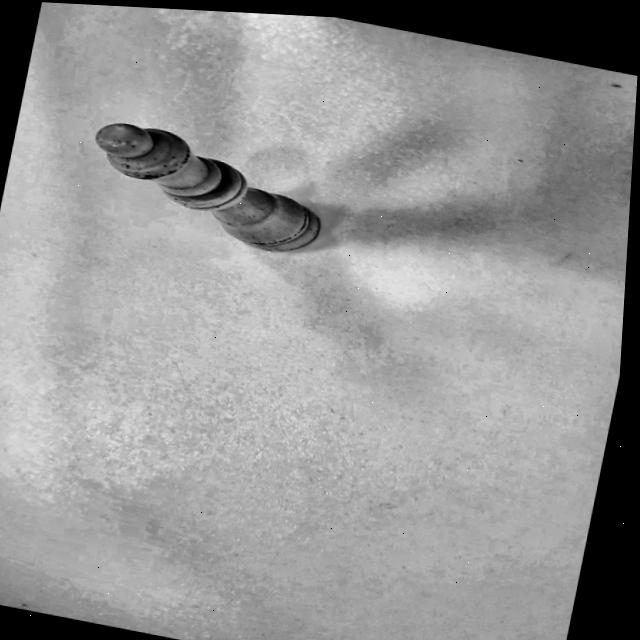white-queen: (48, 88, 373, 277)
